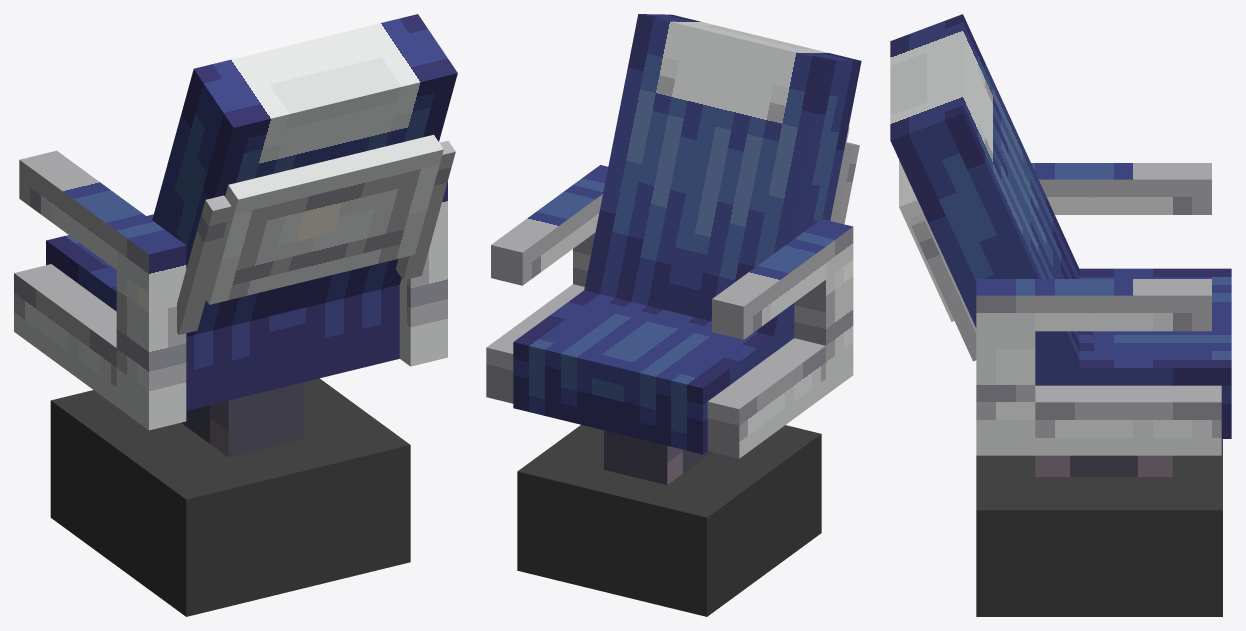
The model's file is driver_seat.obj.
The picture shows the model from 3 angles, left to right: view 1: azimuth 30°, elevation 25°; view 2: azimuth 150°, elevation 25°; view 3: azimuth 270°, elevation 25°; orthographic projection. The views are drawn at different scales.
Parts seen in each view (by area): view 1: seat_2, seat_4, seat_11, seat_3, seat_7, seat_5, seat_6, seat_9, seat_1, seat_12, seat_0, seat_13; view 2: seat_4, seat_2, seat_3, seat_6, seat_7, seat_8, seat_5, seat_10, seat_1, seat_0, seat_12, seat_9; view 3: seat_2, seat_4, seat_10, seat_8, seat_3, seat_7, seat_9, seat_0, seat_13, seat_11.
Boxes of the visible parts, left/top/right/bottom form: seat_2: left=50, top=378, right=410, bottom=616; seat_4: left=152, top=14, right=457, bottom=336; seat_11: left=206, top=134, right=443, bottom=304; seat_3: left=46, top=214, right=399, bottom=410; seat_7: left=19, top=150, right=186, bottom=293; seat_5: left=116, top=270, right=186, bottom=430; seat_6: left=14, top=264, right=116, bottom=406; seat_9: left=399, top=220, right=447, bottom=366; seat_1: left=181, top=391, right=265, bottom=457; seat_12: left=177, top=195, right=231, bottom=334; seat_0: left=266, top=382, right=303, bottom=448; seat_13: left=395, top=140, right=455, bottom=280; seat_4: left=584, top=14, right=861, bottom=345; seat_2: left=517, top=425, right=821, bottom=616; seat_3: left=513, top=290, right=782, bottom=454; seat_6: left=707, top=338, right=825, bottom=458; seat_7: left=712, top=219, right=853, bottom=339; seat_8: left=491, top=165, right=608, bottom=285; seat_5: left=794, top=260, right=853, bottom=394; seat_10: left=486, top=284, right=584, bottom=403; seat_1: left=635, top=438, right=711, bottom=484; seat_0: left=604, top=430, right=635, bottom=477; seat_12: left=830, top=142, right=859, bottom=224; seat_9: left=573, top=232, right=595, bottom=286; seat_2: left=976, top=439, right=1222, bottom=616; seat_4: left=890, top=14, right=1082, bottom=385; seat_10: left=1035, top=385, right=1221, bottom=455; seat_8: left=976, top=279, right=1211, bottom=331; seat_3: left=1035, top=268, right=1231, bottom=438; seat_7: left=1031, top=163, right=1211, bottom=214; seat_9: left=976, top=331, right=1035, bottom=455; seat_0: left=1035, top=455, right=1172, bottom=476; seat_13: left=911, top=213, right=976, bottom=361; seat_11: left=899, top=160, right=954, bottom=321.
Bounding box in the file's own units: 1 × 1.77 × 1.09.
